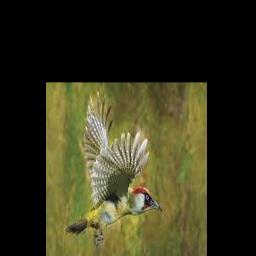Woodpecker: (64, 90, 163, 245)
